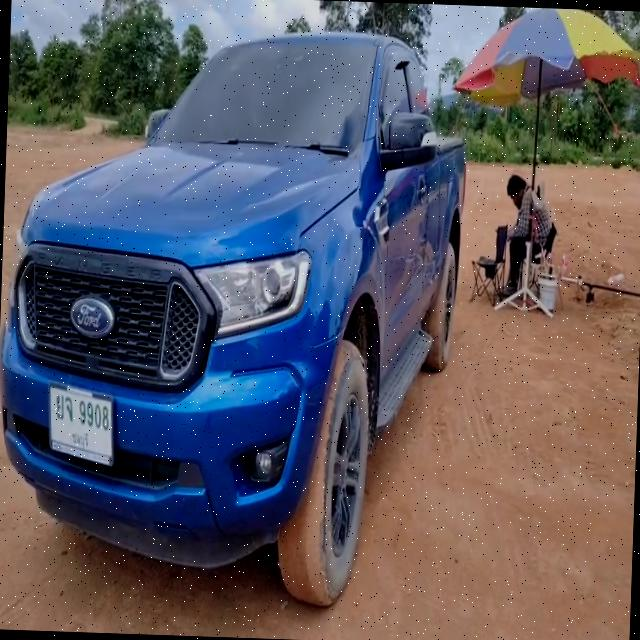Digit: (78, 400, 109, 431)
Licenseplate: (49, 382, 113, 465)
Provincename: (71, 427, 89, 449)
Thaichar: (55, 392, 73, 422)
